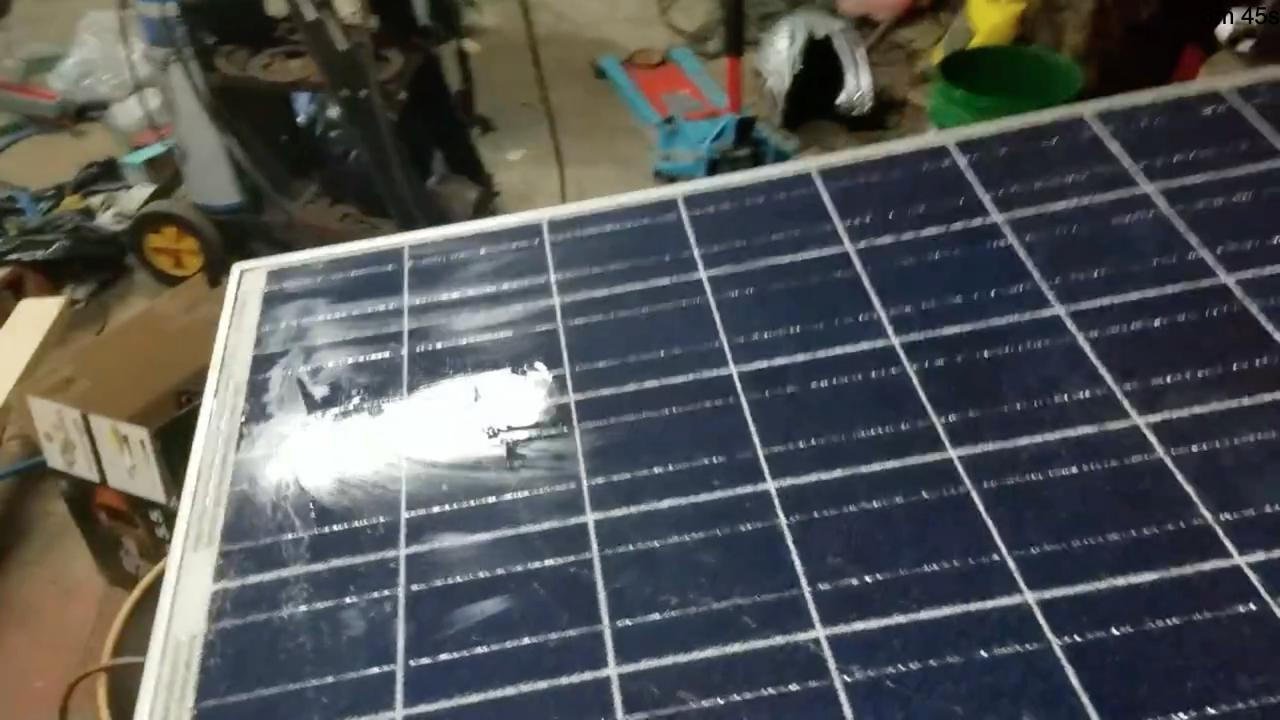Crack: (254, 348, 566, 501)
